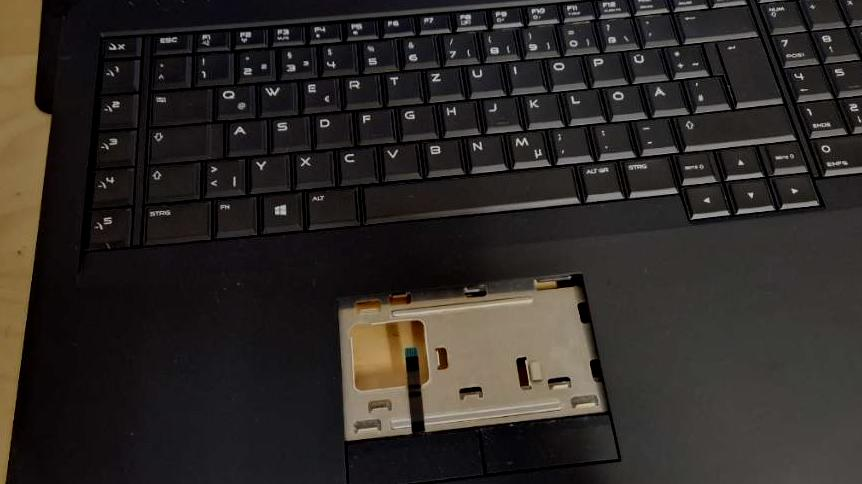0: (557, 18, 597, 53)
1: (194, 52, 234, 86)
2: (235, 48, 273, 81)
3: (277, 45, 315, 79)
4: (318, 42, 355, 74)
5: (358, 39, 396, 72)
6: (398, 34, 437, 68)
7: (438, 31, 477, 64)
8: (478, 27, 517, 61)
9: (515, 23, 557, 57)
a: (225, 119, 266, 156)
accent: (635, 12, 677, 46)
ae: (641, 80, 687, 115)
alt-left: (306, 188, 357, 228)
altgr-right: (578, 162, 625, 204)
b: (420, 138, 464, 176)
c: (335, 146, 377, 185)
caret: (151, 56, 192, 89)
comma: (546, 125, 591, 164)
d: (312, 111, 351, 149)
del: (675, 5, 756, 42)
e: (300, 76, 338, 112)
enter: (715, 36, 784, 105)
f: (353, 108, 397, 144)
g: (396, 104, 437, 140)
h: (436, 100, 479, 136)
hash: (680, 76, 729, 111)
i: (504, 59, 543, 93)
j: (478, 95, 520, 133)
k: (520, 92, 562, 128)
keyboard: (81, 1, 862, 254)
l: (562, 88, 606, 125)
less: (202, 158, 243, 197)
m: (506, 130, 548, 166)
minus: (630, 117, 677, 154)
n: (462, 134, 506, 172)
o: (543, 55, 585, 89)
oe: (601, 84, 646, 119)
p: (584, 51, 623, 85)
plus: (663, 43, 708, 77)
point: (588, 121, 634, 160)
q: (213, 83, 254, 120)
r: (341, 74, 379, 108)
s: (268, 115, 310, 151)
shift-left: (144, 163, 199, 201)
shift-lock: (145, 123, 225, 162)
shift-right: (673, 105, 795, 149)
space: (361, 166, 578, 225)
ss: (596, 16, 637, 50)
strg-left: (144, 202, 212, 242)
strg-right: (620, 158, 677, 200)
t: (382, 69, 420, 103)
tab: (148, 88, 212, 125)
u: (463, 63, 503, 97)
ue: (622, 47, 665, 81)
v: (379, 143, 419, 181)
w: (258, 81, 296, 116)
x: (292, 150, 335, 188)
y: (247, 155, 289, 193)
z: (423, 66, 462, 102)
